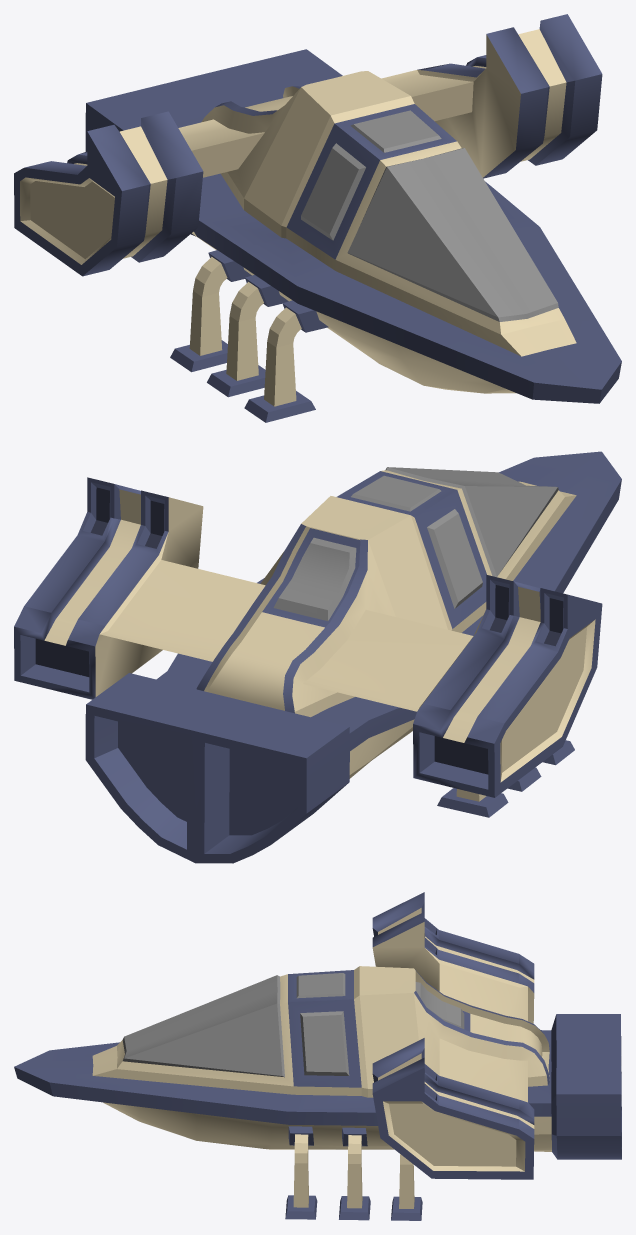
The model's file is raketa.fbx.
The picture shows the model from 3 angles, top to bottom: view 1: azimuth 30°, elevation 25°; view 2: azimuth 150°, elevation 25°; view 3: azimuth 270°, elevation 25°; orthographic projection. The views are drawn at different scales.
Visible parts, largest first — view 1: Cube.048; view 2: Cube.048; view 3: Cube.048.
Boxes of the visible parts, <box> form: Cube.048: <box>14,14,621,422</box>; Cube.048: <box>14,451,621,863</box>; Cube.048: <box>14,892,621,1220</box>.
Size of the model in its own units: 439 by 213 by 643.
